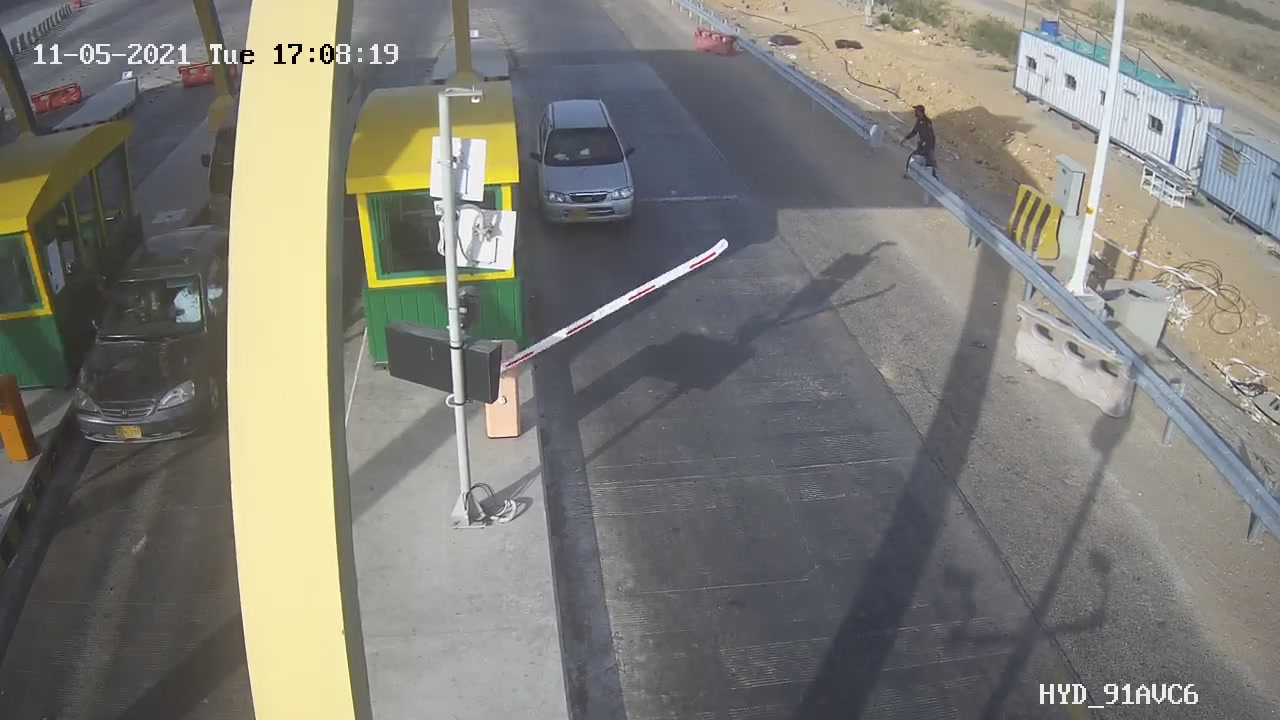F1: (518, 83, 652, 240)
